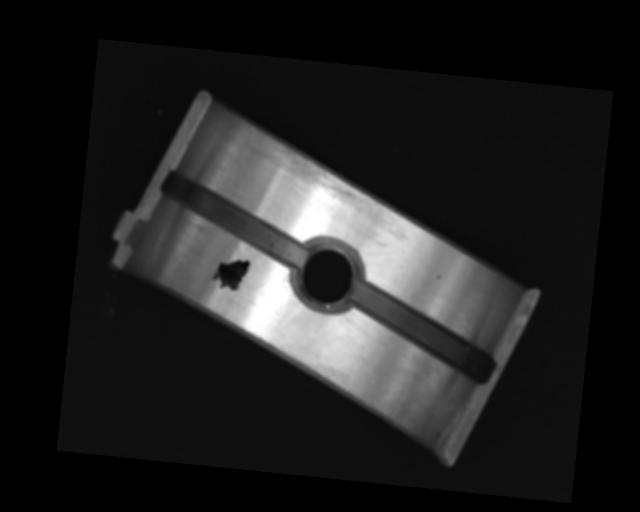blot: (209, 254, 252, 292)
bruise: (433, 272, 442, 280)
gap: (345, 280, 500, 382), (155, 171, 313, 266)
hole: (289, 237, 365, 316)
scratch: (240, 123, 382, 206)
